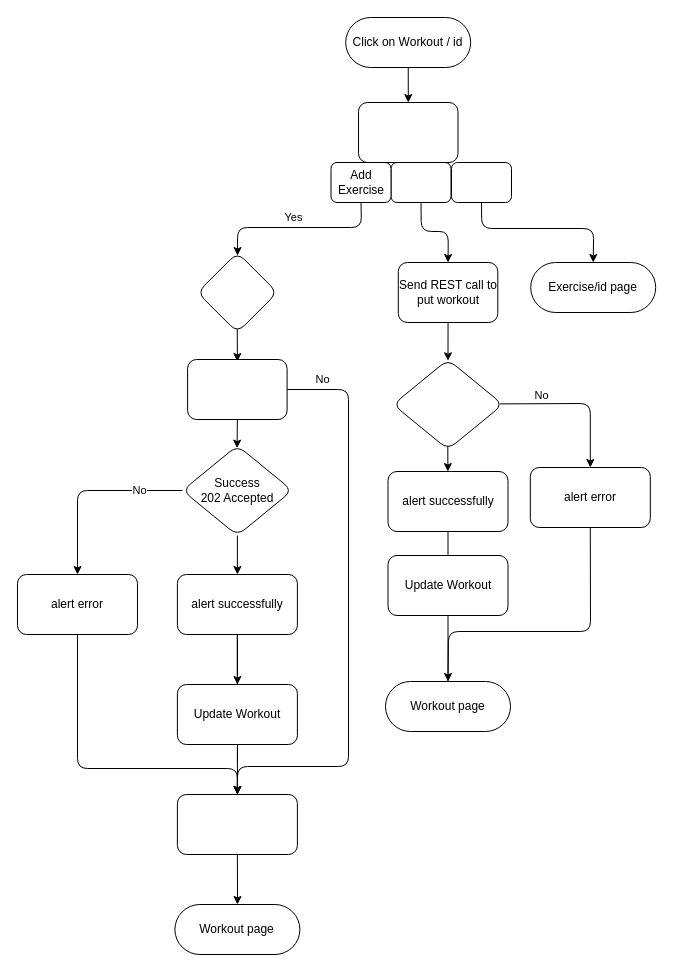
This 674x972 diagram has some shape labels left out. Each missing label, with the centre of its shape:
"Click add exercise/id to workout" goes at (x=237, y=389).
"Close Modal" goes at (x=236, y=824).
"Exercise" goes at (x=481, y=182).
"Remove Exercise" goes at (x=420, y=182).
"Show Modal" goes at (x=236, y=292).
"Success 200 OK" goes at (x=447, y=404).
"Workout id Page" goes at (x=408, y=132).
